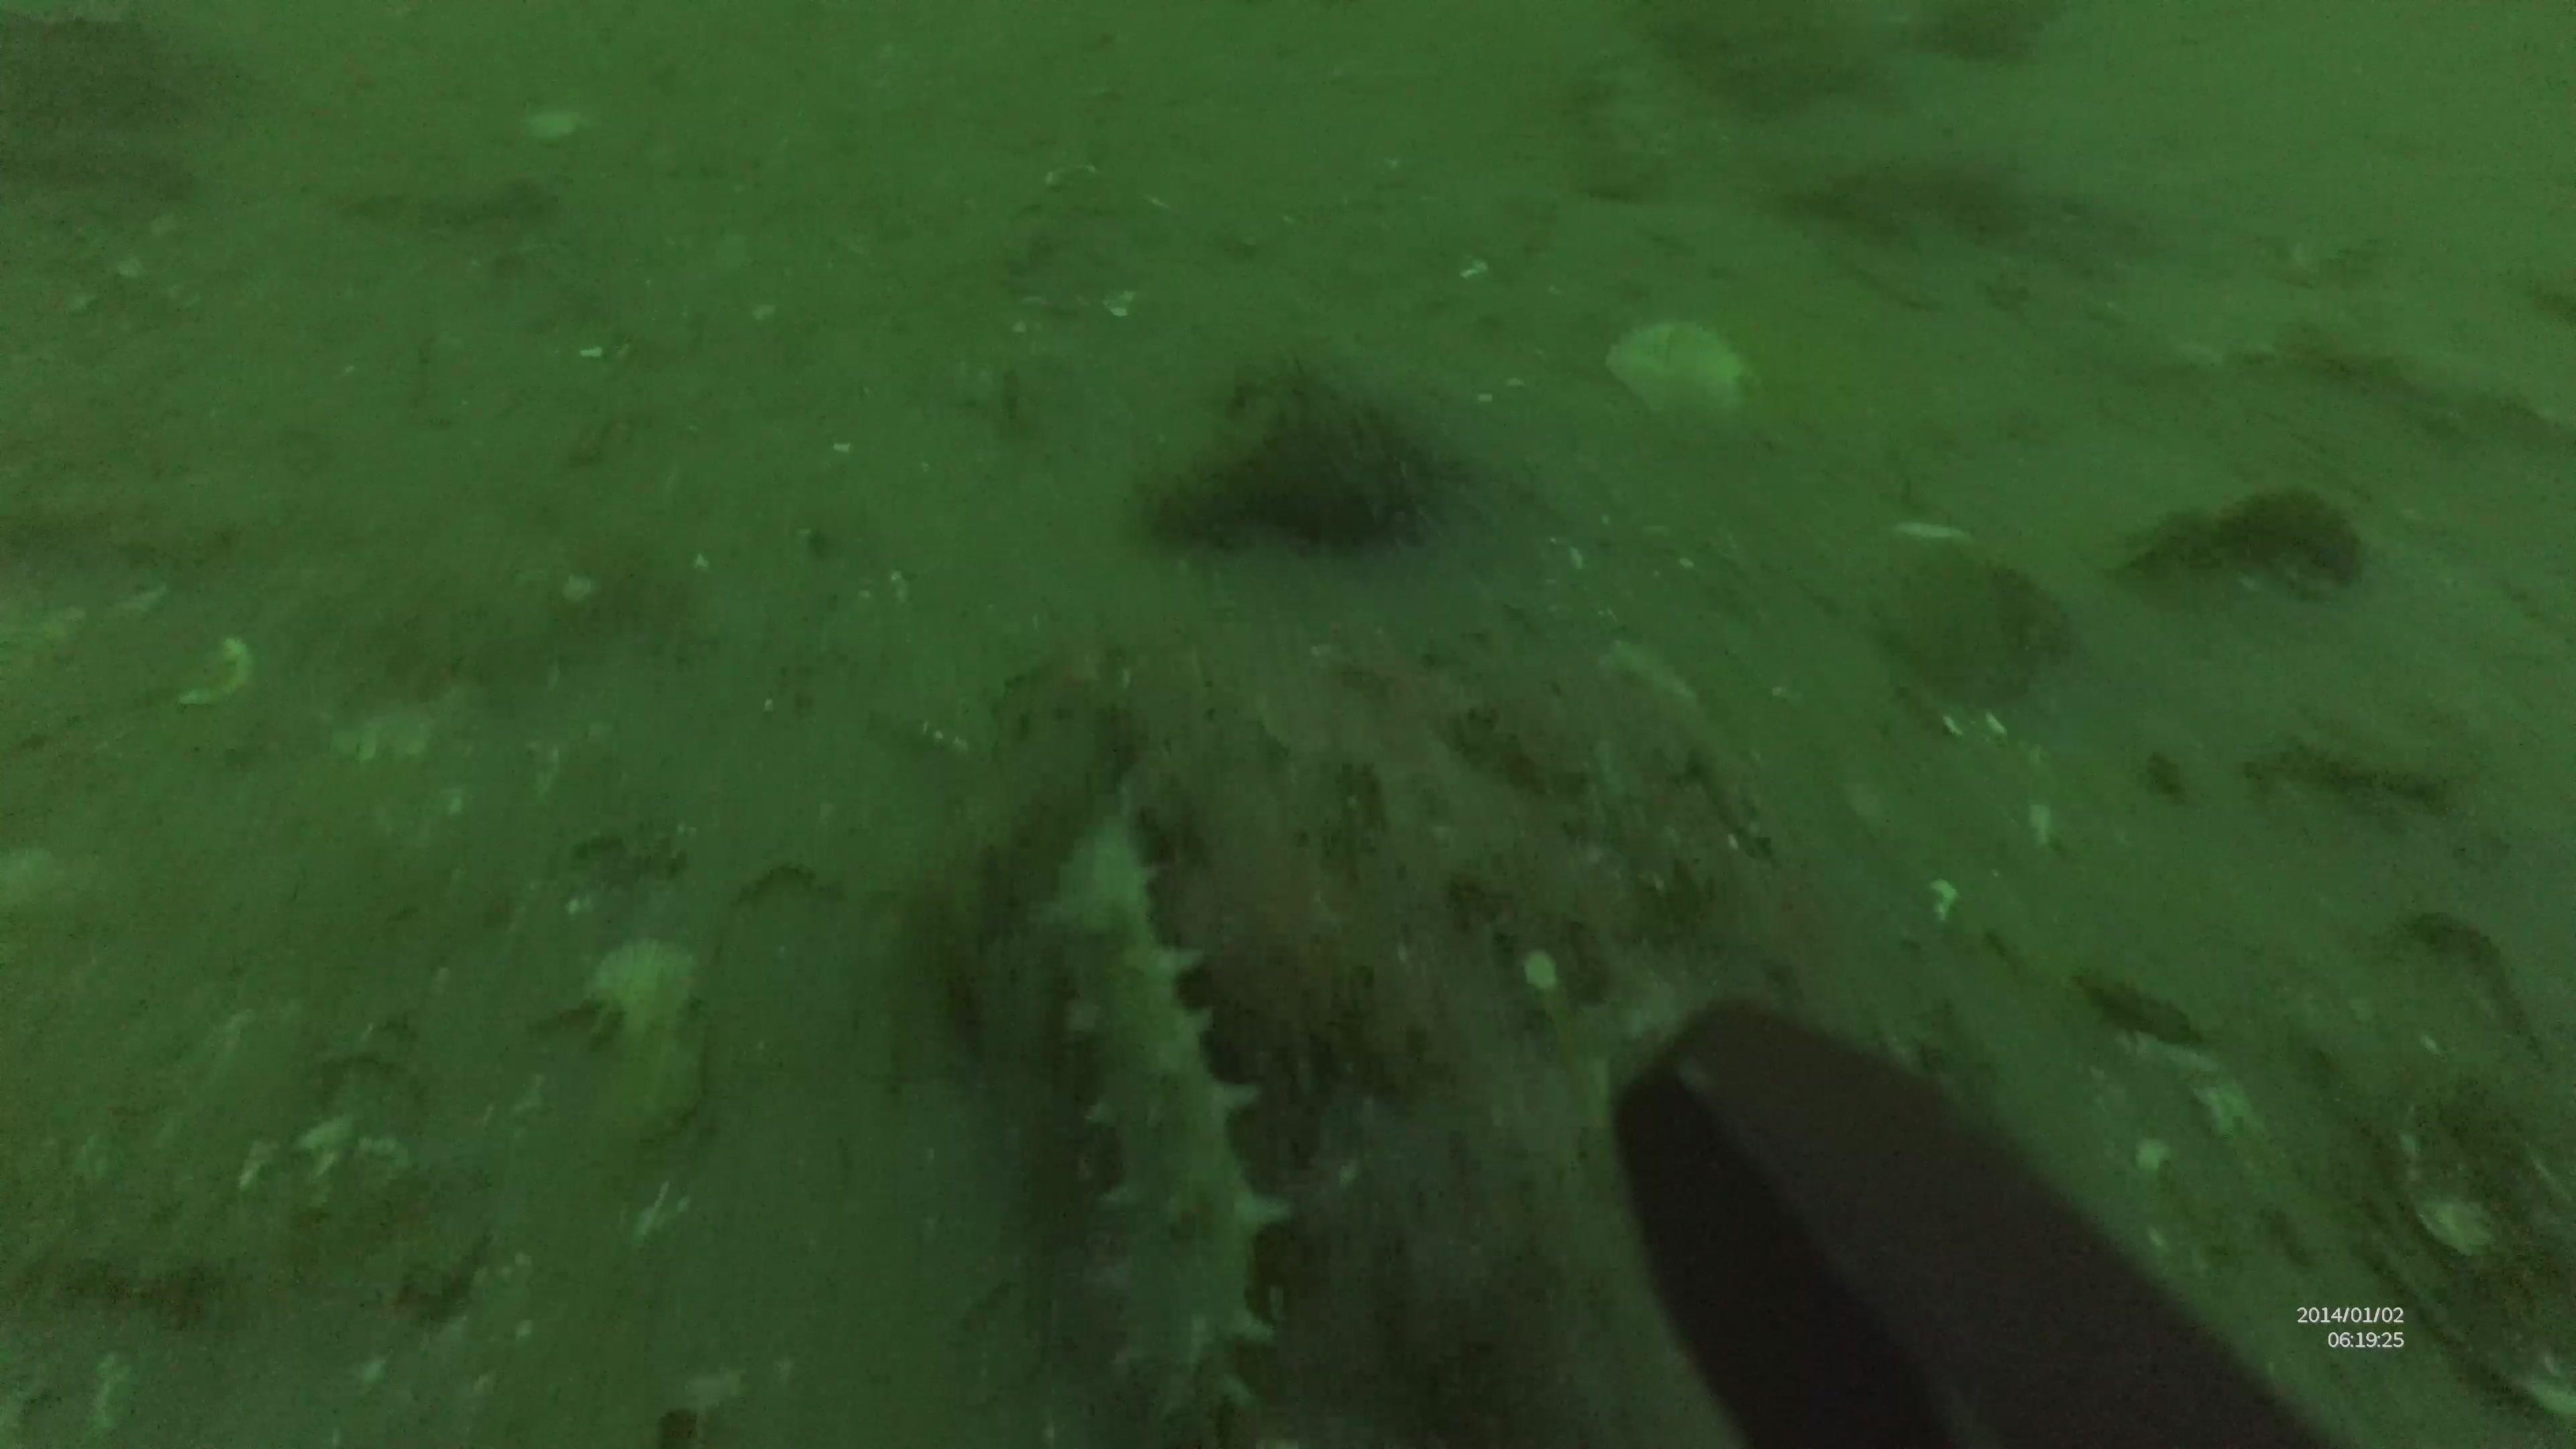holothurian: (1040, 809, 1284, 1445)
